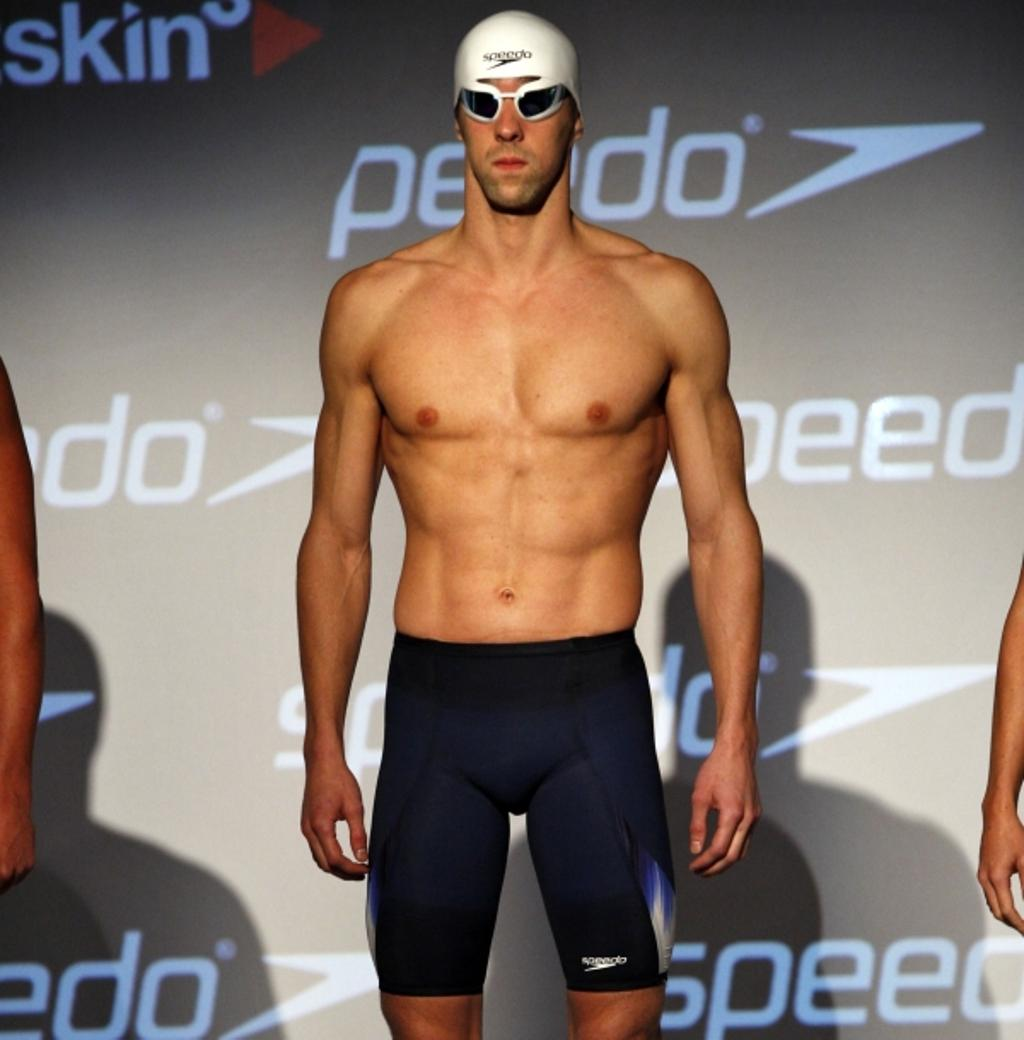face: (465, 59, 575, 211)
